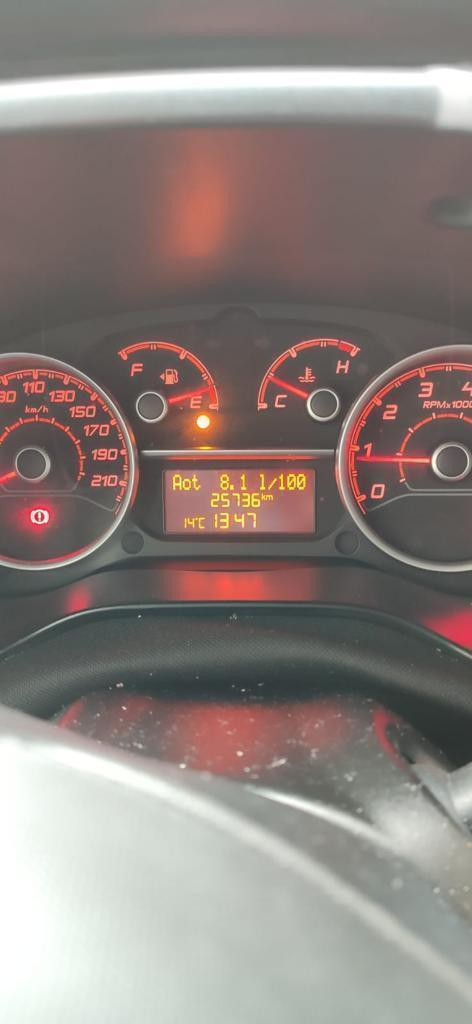,: (229, 484, 234, 490)
0: (286, 473, 296, 490), (296, 473, 306, 490)
1: (278, 473, 285, 490), (240, 473, 247, 490), (213, 513, 217, 528), (183, 516, 186, 528)
2: (210, 493, 219, 507)
3: (219, 512, 229, 528), (241, 492, 250, 507)
4: (234, 512, 244, 528), (187, 517, 195, 528)
5: (220, 493, 230, 507)
6: (251, 492, 260, 507)
7: (246, 512, 256, 528), (232, 492, 240, 507)
8: (219, 473, 229, 490)
X: (172, 473, 182, 490), (191, 473, 200, 491), (267, 477, 277, 490), (182, 478, 191, 490), (259, 473, 265, 490), (198, 517, 205, 528), (265, 494, 273, 500), (261, 492, 265, 500)
odometer: (160, 466, 319, 536)
